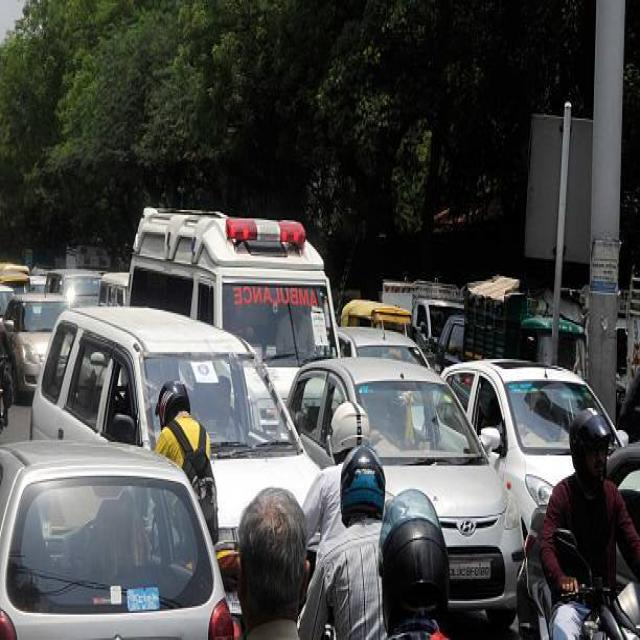ambulance: (136, 197, 335, 338)
